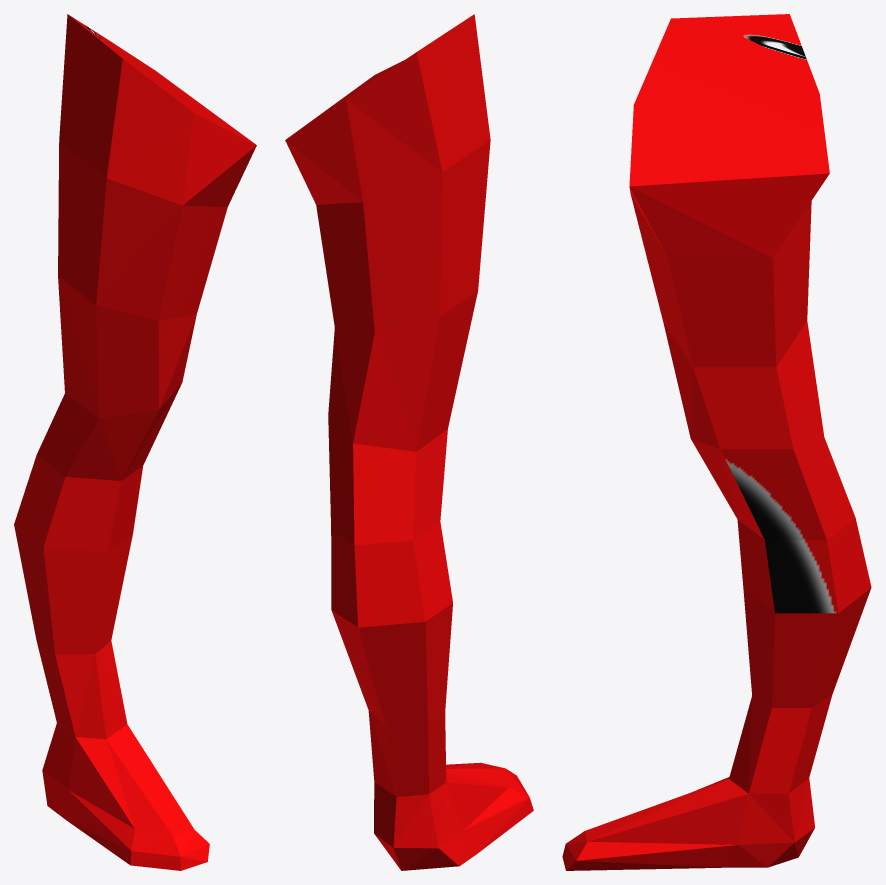
File: enemy2RightLeg.obj
3 views of the same model, side by side, from view 1: azimuth 30°, elevation 25°; view 2: azimuth 150°, elevation 25°; view 3: azimuth 270°, elevation 25° (orthographic). The views are drawn at different scales.
Visible parts, largest first — view 1: Cube.005; view 2: Cube.005; view 3: Cube.005.
Boxes of the visible parts, bbox=[...] form: Cube.005: bbox=[14, 14, 256, 870]; Cube.005: bbox=[285, 14, 533, 870]; Cube.005: bbox=[562, 14, 871, 870].
Size of the model in its own units: 0.2072 by 1.06 by 0.3544.
